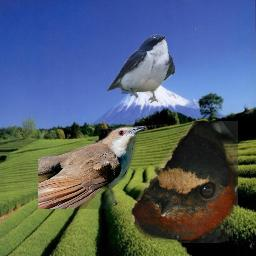Cuckoo: (38, 126, 146, 209)
Swallow: (131, 121, 238, 243), (106, 34, 176, 104)
